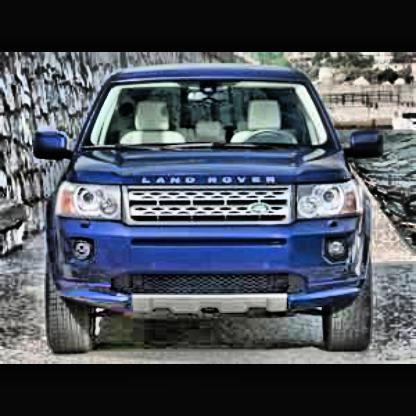Land Rover LR2 SUV 2012: (37, 68, 373, 359)
